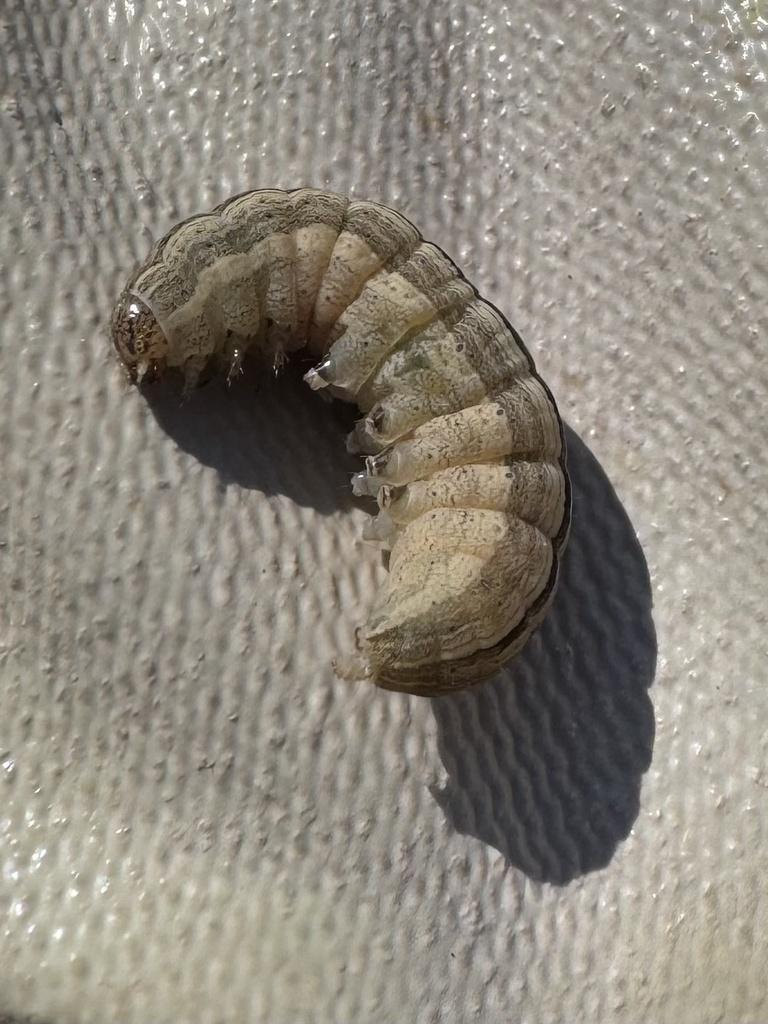caterpillars: (13, 99, 677, 763)
